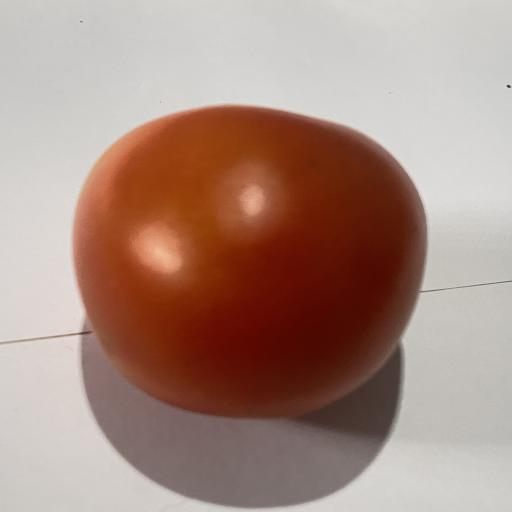ripe: (73, 106, 426, 417)
